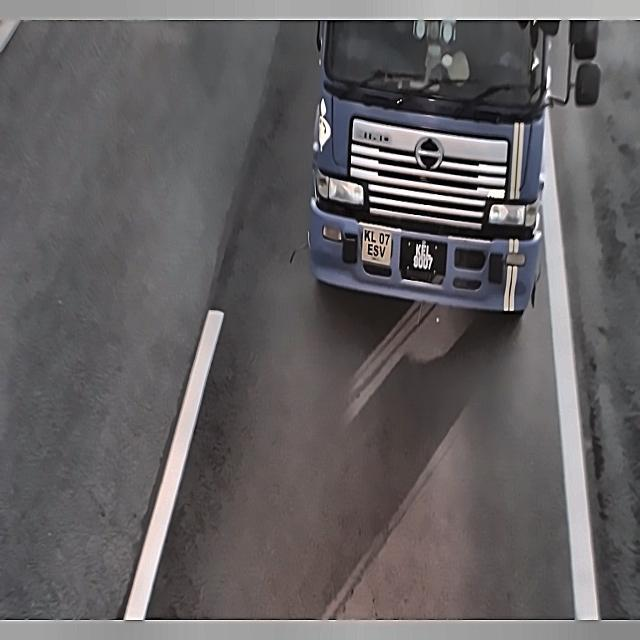car: (394, 220, 453, 290)
